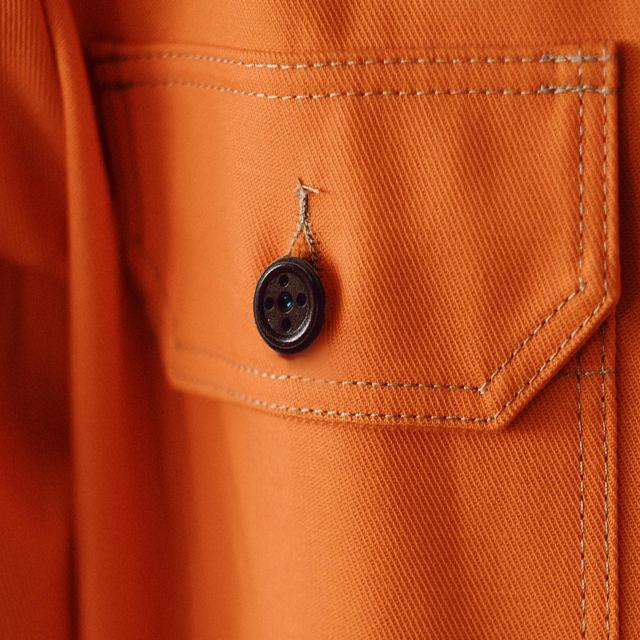hidden camera: (267, 277, 302, 327)
